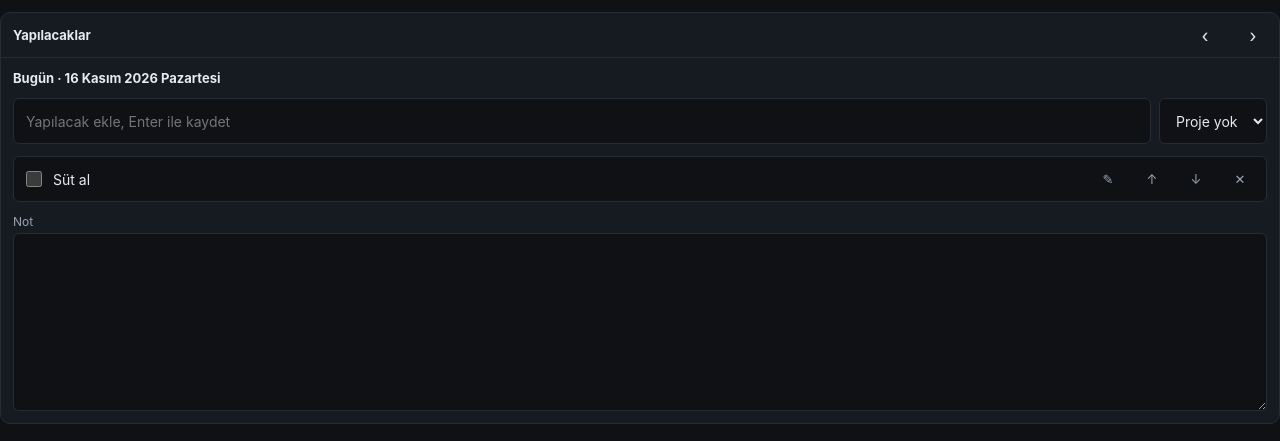
Test: TodoPanel › deletes
This screenshot has width=1280, height=441.
Click the button named "Sil: Süt al".
click(1240, 179)  # box top-left (1218, 157), bottom-right (1262, 201)
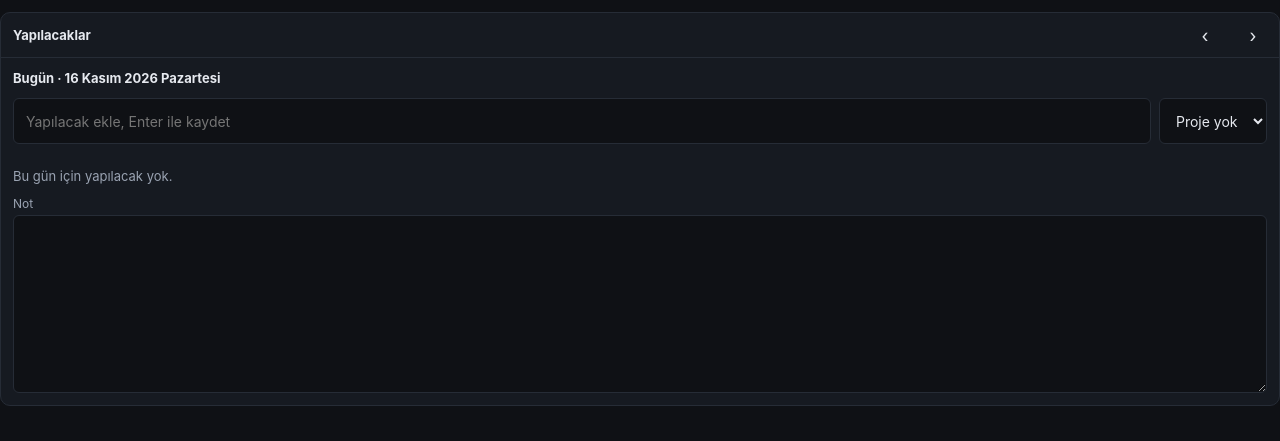
Expected: no list items are shown
Expected: the text "Bu gün için yapılacak yok." is shown, top-left (13, 168), bottom-right (172, 184)
